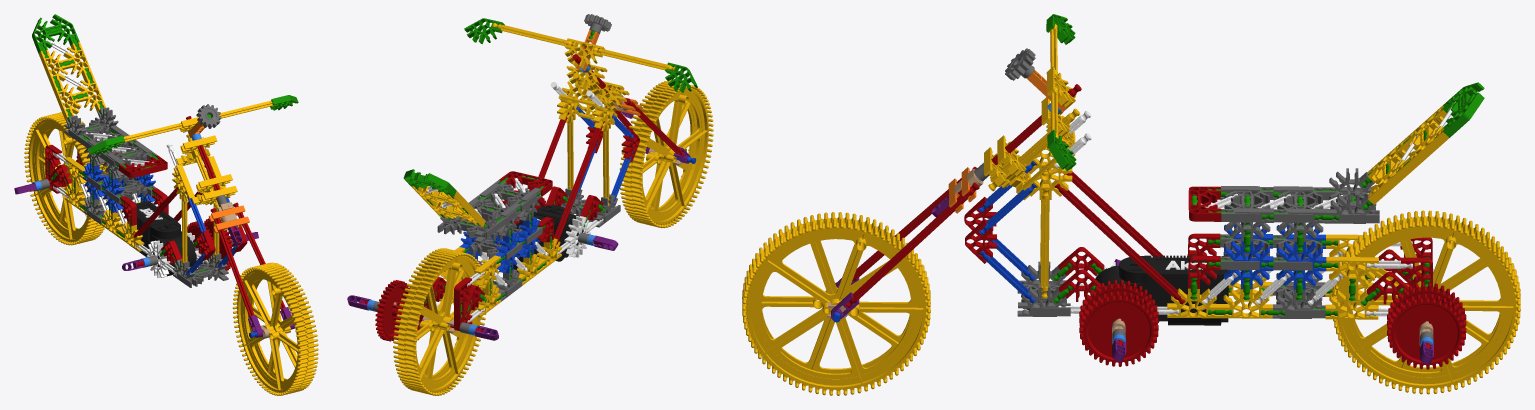
3 views of the same model, side by side, from view 1: azimuth 30°, elevation 25°; view 2: azimuth 150°, elevation 25°; view 3: azimuth 270°, elevation 25° (orthographic). The views are drawn at different scales.
Parts seen in each view (by area): view 1: B2_L21.006; view 2: B2_L21.006; view 3: B2_L21.006.
Boxes of the visible parts, x1,y1,x2,y2 form: B2_L21.006: [14, 14, 318, 395]; B2_L21.006: [347, 14, 713, 395]; B2_L21.006: [742, 14, 1520, 395].
Bounding box in the file's own units: 1.63 × 1.76 × 3.68.
